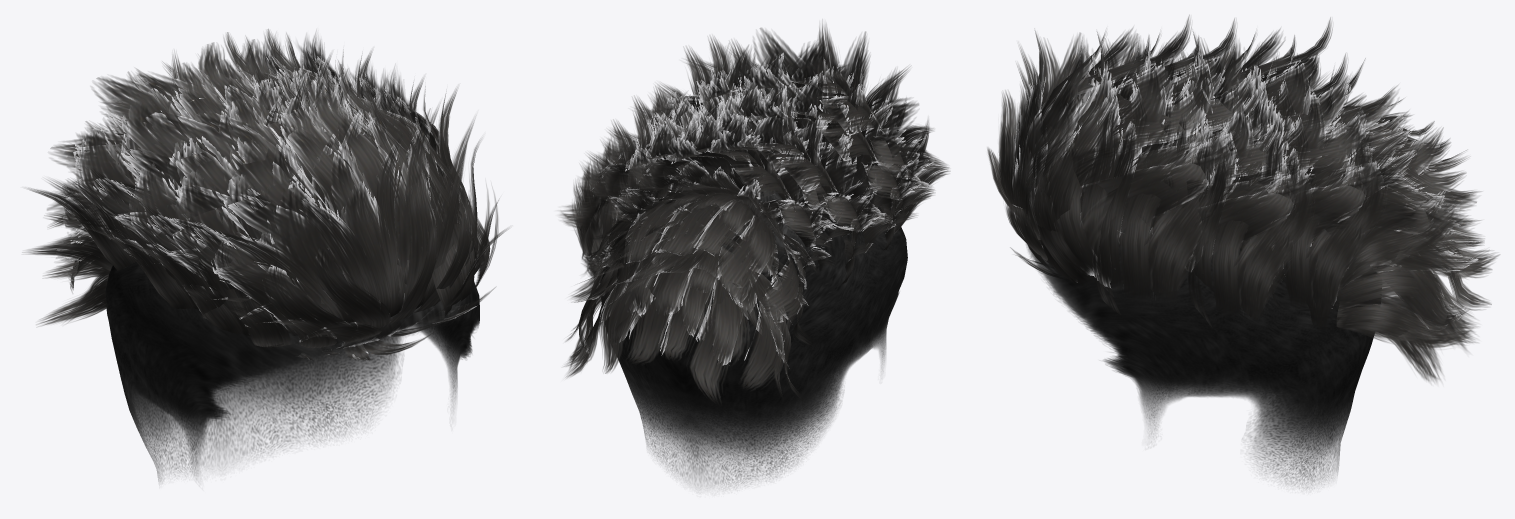
The model's file is SpikyCut.glb.
3 renders of one model, left to right at view 1: azimuth 30°, elevation 25°; view 2: azimuth 150°, elevation 25°; view 3: azimuth 270°, elevation 25°, orthographic. The views are drawn at different scales.
Parts seen in each view (by area): view 1: SPIKY CUT, Scalp SPIKY CUT, SPIKY CUT.003, SPIKY CUT.001, SPIKY CUT.005, SPIKY CUT.004, SPIKY CUT.006, SPIKY CUT.002; view 2: Scalp SPIKY CUT, SPIKY CUT.006, SPIKY CUT.004, SPIKY CUT, SPIKY CUT.003, SPIKY CUT.005, SPIKY CUT.001, SPIKY CUT.002; view 3: SPIKY CUT, Scalp SPIKY CUT, SPIKY CUT.002, SPIKY CUT.005, SPIKY CUT.006, SPIKY CUT.004, SPIKY CUT.003, SPIKY CUT.001.
Boxes of the visible parts, box(x1,y1,x2,y2) form: SPIKY CUT: box(117, 64, 508, 360); Scalp SPIKY CUT: box(105, 262, 479, 481); SPIKY CUT.003: box(27, 32, 341, 270); SPIKY CUT.001: box(82, 69, 385, 318); SPIKY CUT.005: box(70, 29, 386, 187); SPIKY CUT.004: box(24, 44, 245, 270); SPIKY CUT.006: box(37, 119, 117, 325); SPIKY CUT.002: box(187, 56, 439, 170); Scalp SPIKY CUT: box(601, 177, 907, 487); SPIKY CUT.006: box(564, 214, 803, 403); SPIKY CUT.004: box(571, 159, 835, 346); SPIKY CUT: box(646, 22, 949, 232); SPIKY CUT.003: box(606, 91, 892, 284); SPIKY CUT.005: box(560, 99, 834, 278); SPIKY CUT.001: box(675, 60, 934, 250); SPIKY CUT.002: box(594, 79, 851, 241); SPIKY CUT: box(987, 15, 1260, 314); Scalp SPIKY CUT: box(1026, 244, 1381, 488); SPIKY CUT.002: box(1118, 71, 1347, 327); SPIKY CUT.005: box(1204, 54, 1418, 329); SPIKY CUT.006: box(1335, 150, 1499, 381); SPIKY CUT.004: box(1325, 58, 1466, 288); SPIKY CUT.003: box(1180, 17, 1403, 252); SPIKY CUT.001: box(1077, 18, 1273, 170).
Bounding box in the file's own units: 0.2599 × 0.319 × 0.3304.
2 materials, 2 textured.
